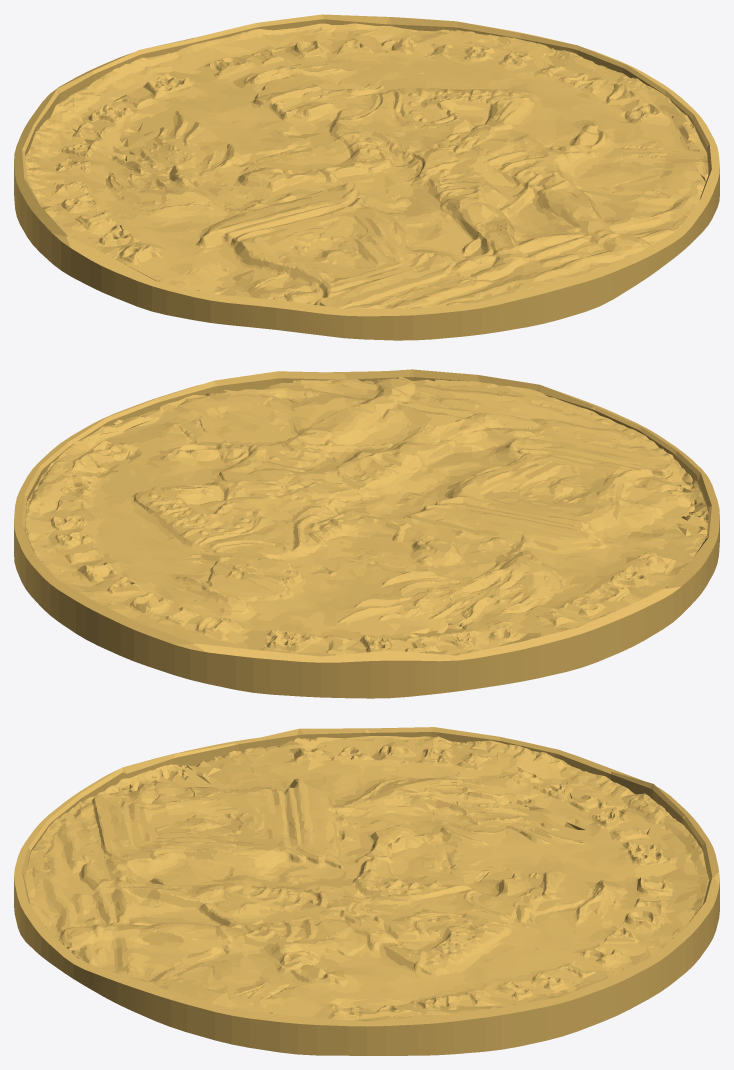
The model's file is Golddukat.glb.
3 views of the same model, one above another, from view 1: azimuth 30°, elevation 25°; view 2: azimuth 150°, elevation 25°; view 3: azimuth 270°, elevation 25° (orthographic).
Visible parts, largest first — view 1: Plane; view 2: Plane; view 3: Plane.
Boxes of the visible parts, x1,y1,x2,y2 form: Plane: [14, 14, 719, 340]; Plane: [14, 369, 719, 698]; Plane: [14, 727, 719, 1055].
Size of the model in its own units: 0.2625 by 0.0196 by 0.2625.
